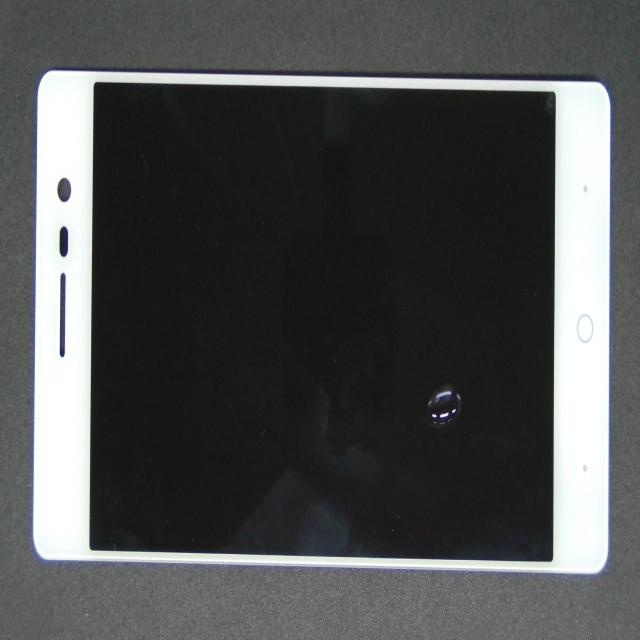oil: (242, 197, 640, 578)
